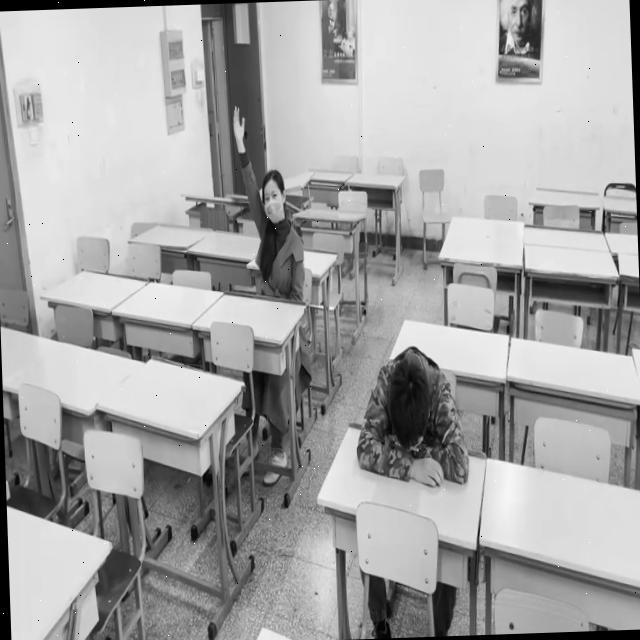sleep: (353, 345, 468, 484)
study: (232, 102, 305, 300)
